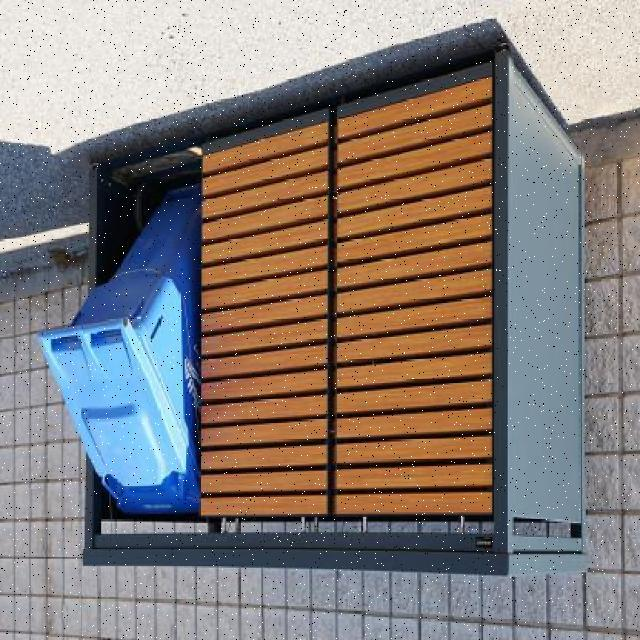garbage container: (37, 155, 203, 524)
